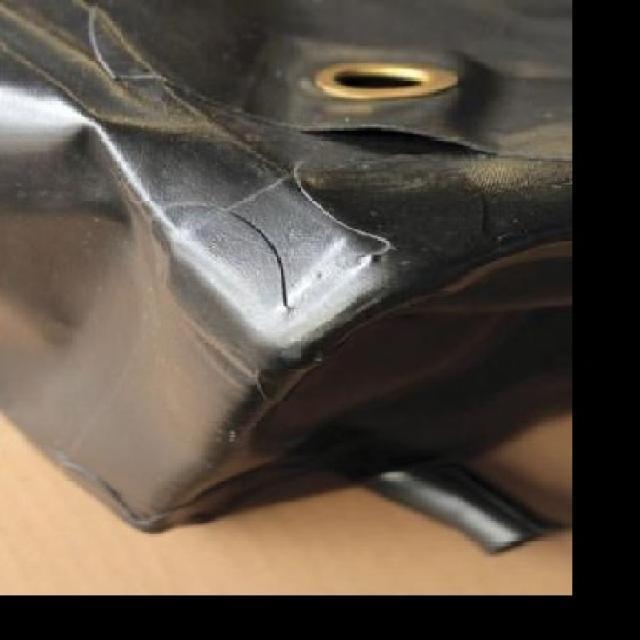crack: (222, 200, 322, 309)
